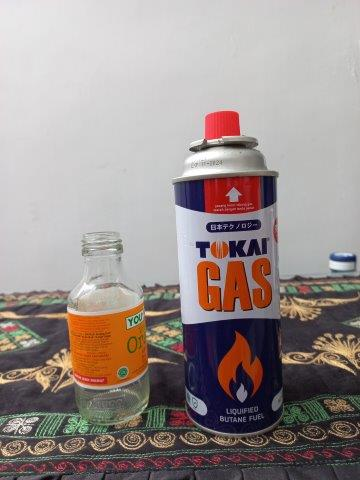botolkaca: (66, 234, 149, 425)
kaleng: (171, 112, 284, 433)
